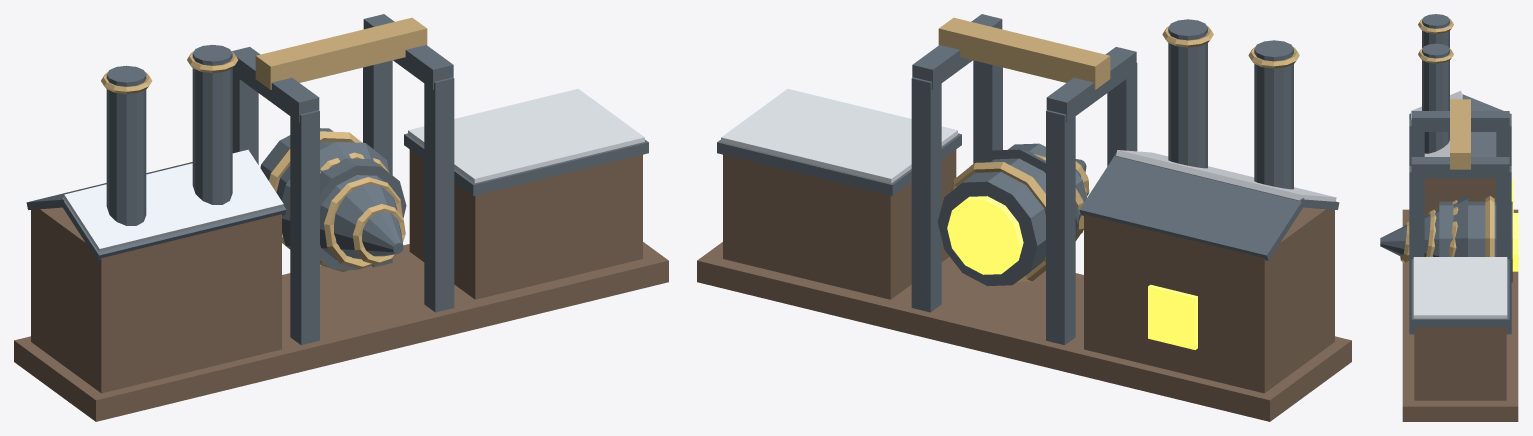
The model's file is wall_drill.glb.
3 renders of one model, left to right at view 1: azimuth 30°, elevation 25°; view 2: azimuth 150°, elevation 25°; view 3: azimuth 270°, elevation 25°, orthographic. The views are drawn at different scales.
Visible parts, largest first — view 1: wall_drill_Building; view 2: wall_drill_Building; view 3: wall_drill_Building.
Boxes of the visible parts, x1,y1,x2,y2 form: wall_drill_Building: (14, 14, 668, 421); wall_drill_Building: (697, 14, 1351, 421); wall_drill_Building: (1380, 14, 1518, 421).
Size of the model in its own units: 6.66 by 3.53 by 1.97.
